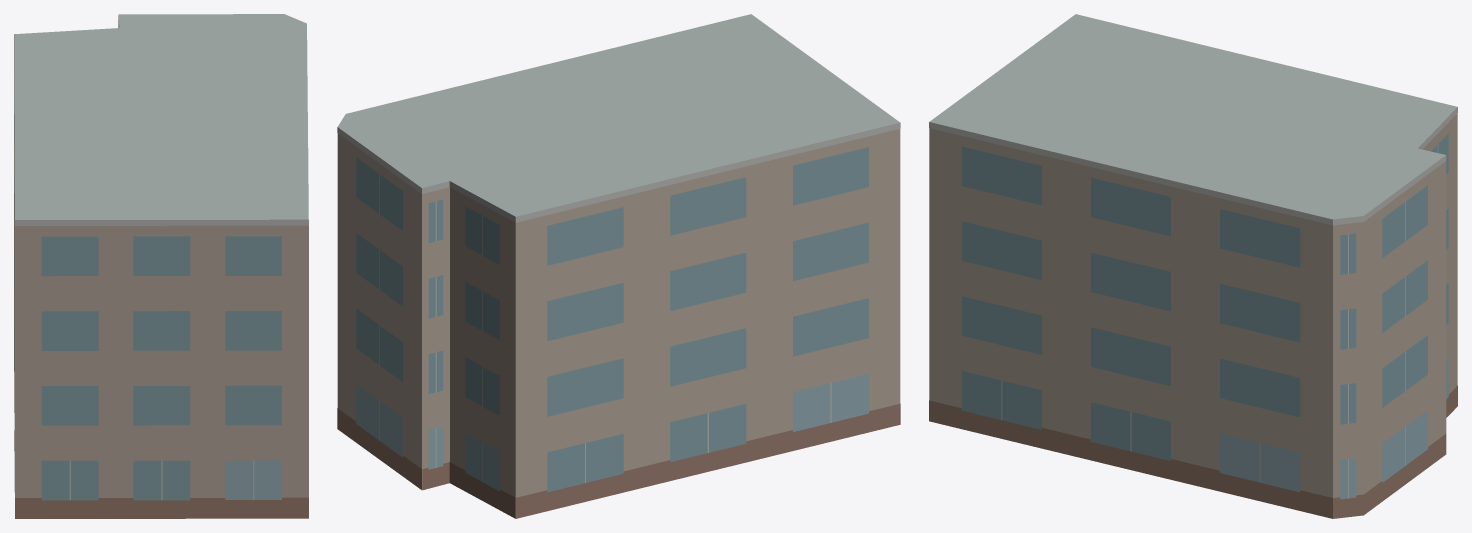
File: survey-upis-32802706.glb
3 views of the same model, side by side, from view 1: azimuth 30°, elevation 25°; view 2: azimuth 150°, elevation 25°; view 3: azimuth 270°, elevation 25° (orthographic).
Visible parts, largest first — view 1: survey-upis-32802706.tmp; view 2: survey-upis-32802706.tmp; view 3: survey-upis-32802706.tmp.
Part boxes in pixels (x1,y1,x2,y2): survey-upis-32802706.tmp: (14,14,308,518); survey-upis-32802706.tmp: (337,14,900,518); survey-upis-32802706.tmp: (929,14,1457,518).
Size of the model in its own units: 18.12 by 12.3 by 19.69.
